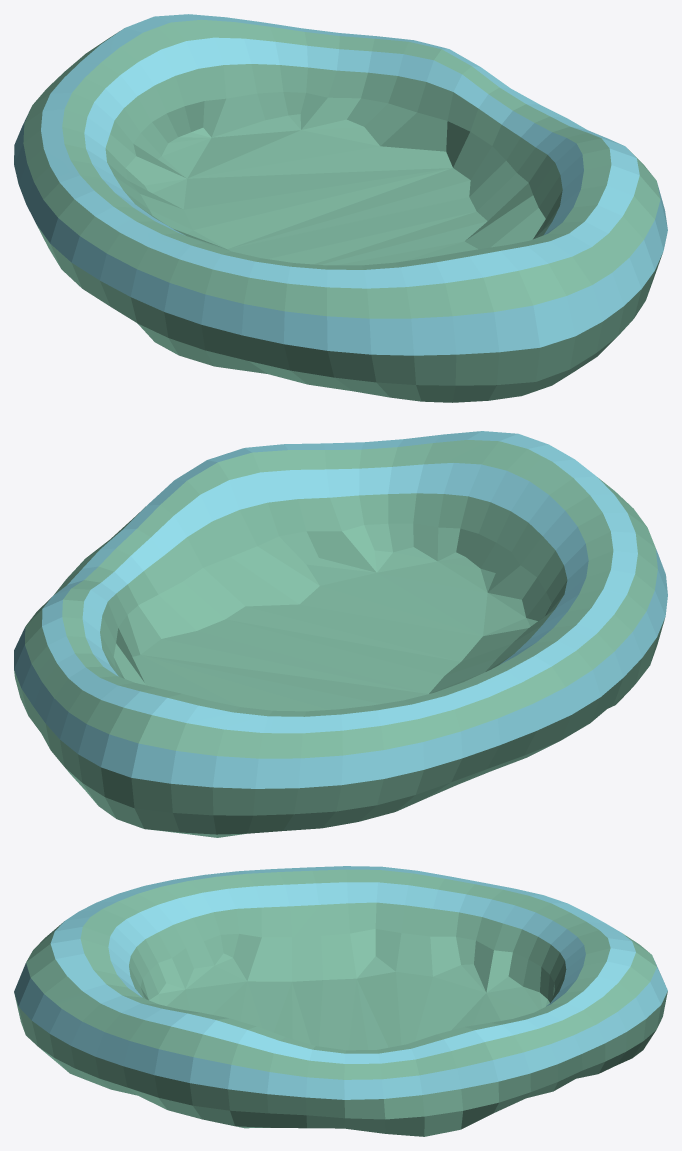
The model's file is catsbed.fbx.
3 views of the same model, one above another, from view 1: azimuth 30°, elevation 25°; view 2: azimuth 150°, elevation 25°; view 3: azimuth 270°, elevation 25° (orthographic). The views are drawn at different scales.
Visible parts, largest first — view 1: Torus; view 2: Torus; view 3: Torus.
Boxes of the visible parts, x1,y1,x2,y2 form: Torus: (14, 14, 667, 402); Torus: (14, 431, 667, 837); Torus: (14, 866, 667, 1136).
Size of the model in its own units: 114 by 29.31 by 153.
